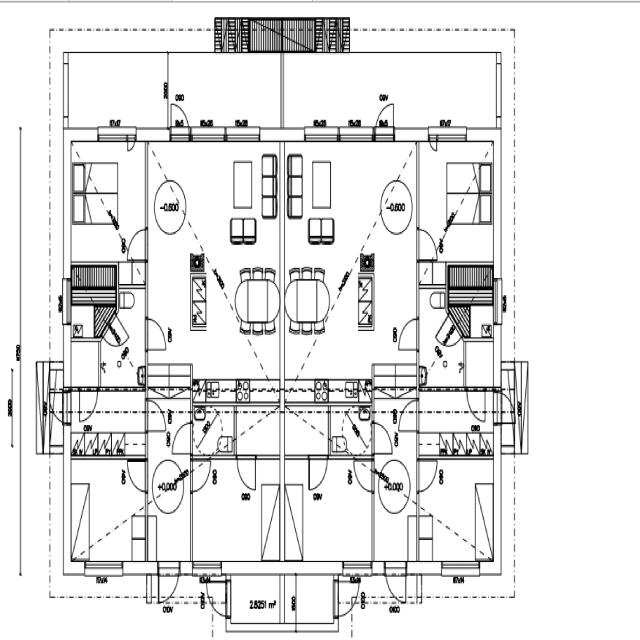door: (101, 312, 129, 359), (436, 312, 462, 356), (385, 561, 406, 610), (158, 562, 179, 610), (334, 580, 360, 618), (205, 582, 231, 616), (375, 95, 394, 141), (493, 392, 519, 423), (171, 97, 189, 141), (45, 393, 70, 423), (126, 227, 148, 260), (309, 454, 327, 490), (146, 318, 166, 350), (145, 400, 166, 430), (354, 461, 375, 491), (372, 422, 393, 452), (416, 228, 437, 258), (467, 387, 485, 422), (172, 422, 192, 453), (238, 454, 255, 490), (190, 461, 210, 491), (417, 462, 437, 492), (399, 400, 419, 430), (399, 319, 419, 349), (128, 461, 148, 489), (80, 387, 96, 420)
